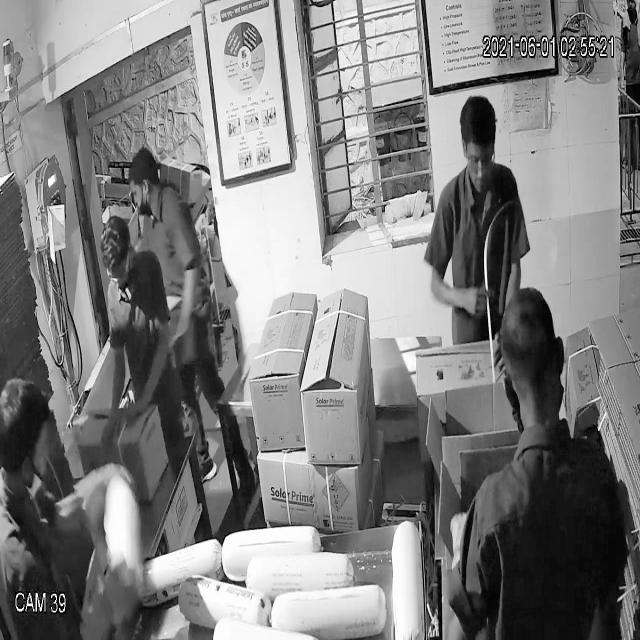glasses: (459, 142, 497, 177)
